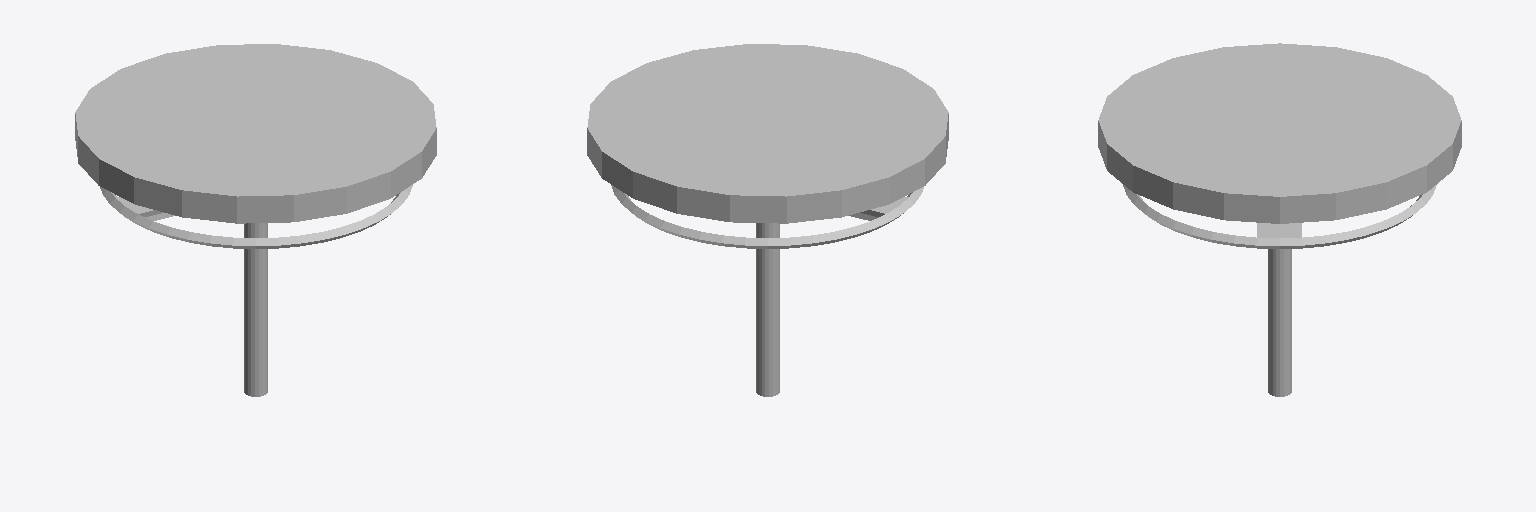
The model's file is clotheRail.obj.
3 views of the same model, side by side, from view 1: azimuth 30°, elevation 25°; view 2: azimuth 150°, elevation 25°; view 3: azimuth 270°, elevation 25° (orthographic).
Parts seen in each view (by area): view 1: polySurface68 polySurface33, polySurface33 polySurface67; view 2: polySurface68 polySurface33, polySurface33 polySurface67; view 3: polySurface68 polySurface33, polySurface33 polySurface67.
Part boxes in pixels (x1,y1,x2,y2): polySurface68 polySurface33: (75, 44, 436, 396); polySurface33 polySurface67: (100, 185, 412, 248); polySurface68 polySurface33: (587, 44, 948, 396); polySurface33 polySurface67: (611, 185, 923, 248); polySurface68 polySurface33: (1098, 43, 1461, 396); polySurface33 polySurface67: (1123, 185, 1436, 248).
Size of the model in its own units: 120 by 98.99 by 120.